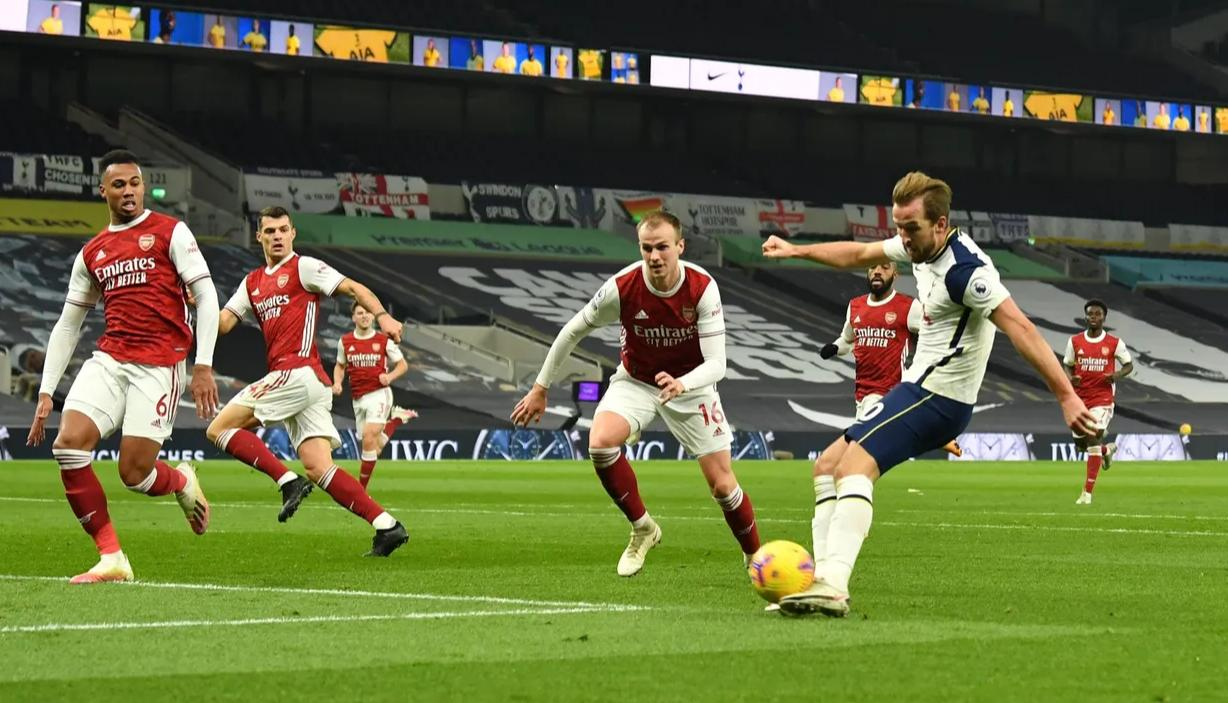ball: (749, 538, 816, 604)
